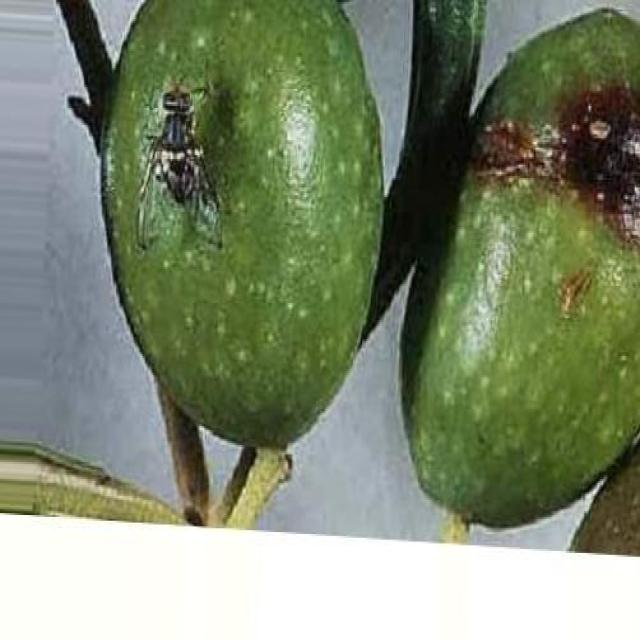Olive Fruit Fly: (106, 0, 381, 445), (414, 9, 639, 526)
